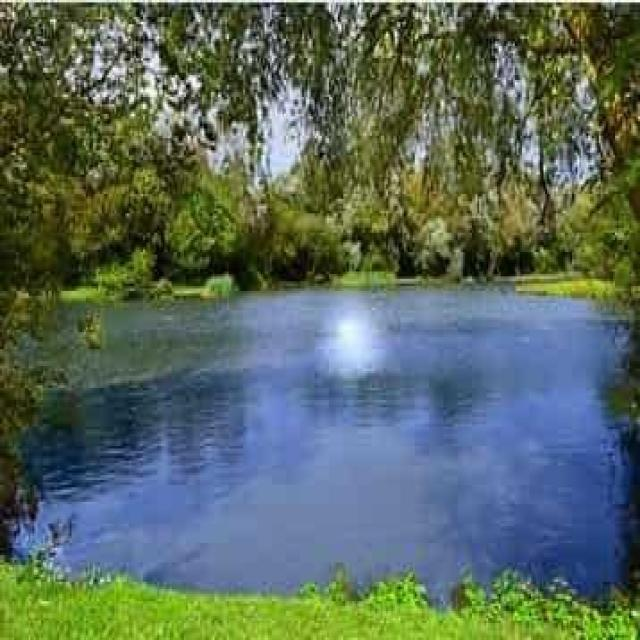Ponds: (18, 290, 637, 604)
